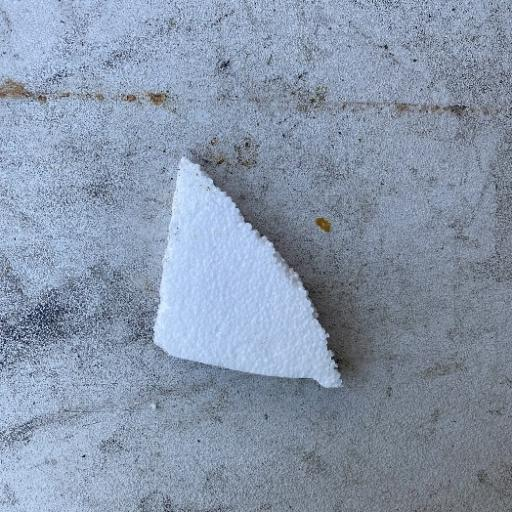Plastic: (149, 154, 345, 391)
